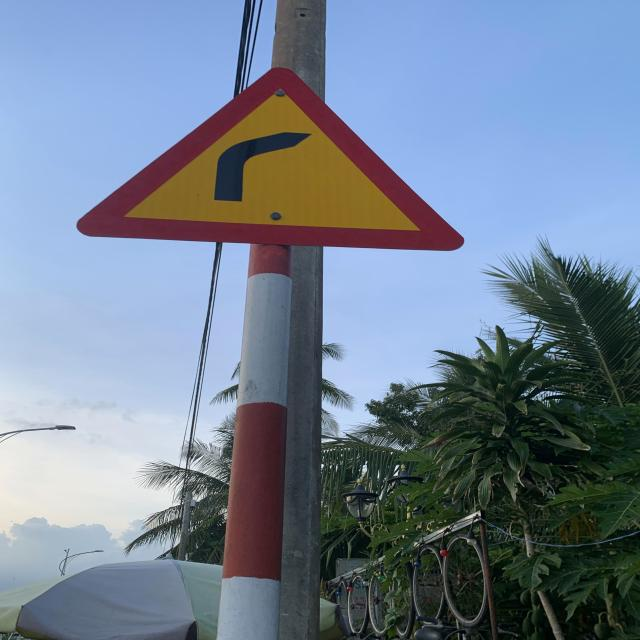Duong_Nguoi_Di_Bo_Cat_Ngang: (75, 67, 458, 253)
